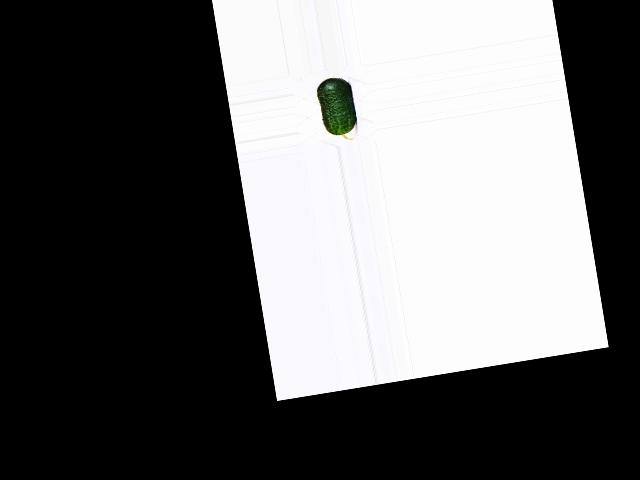cucumber: (315, 75, 359, 144)
